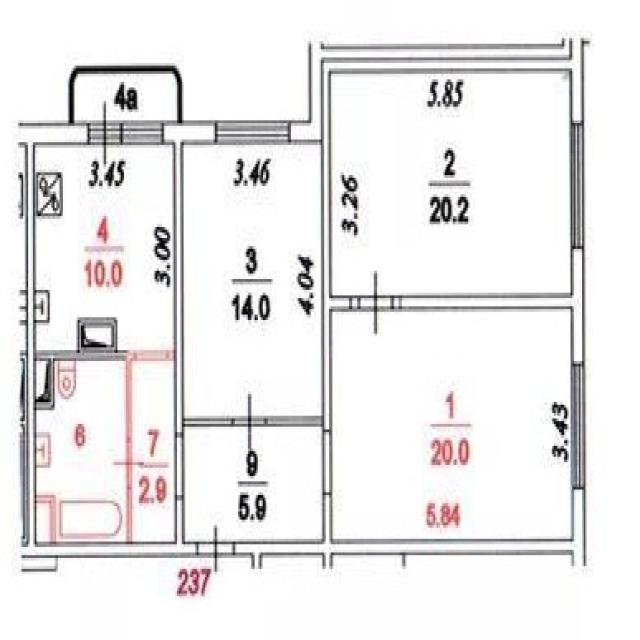Bathrooms: (36, 363, 125, 538)
Corridors: (187, 428, 321, 538), (135, 365, 173, 541), (74, 74, 177, 121)
Doors: (352, 265, 400, 337), (88, 98, 122, 170), (232, 391, 266, 454), (197, 522, 235, 576), (109, 439, 146, 490), (174, 433, 185, 500), (322, 428, 332, 495), (134, 350, 169, 362)
LBwalls: (291, 40, 323, 145), (16, 121, 89, 145), (570, 248, 585, 363), (571, 489, 587, 567), (164, 120, 215, 144), (571, 36, 585, 121)
Offices: (334, 313, 572, 541), (331, 75, 571, 294), (184, 145, 322, 415), (35, 146, 174, 348)
Walls: (266, 58, 572, 430), (20, 144, 197, 557), (235, 495, 573, 573), (173, 146, 232, 435), (35, 348, 133, 439), (400, 292, 572, 312), (322, 46, 571, 57), (126, 489, 132, 543), (169, 349, 175, 363)
Windows: (214, 119, 292, 144), (570, 120, 585, 249), (571, 362, 585, 490), (121, 121, 164, 145)
